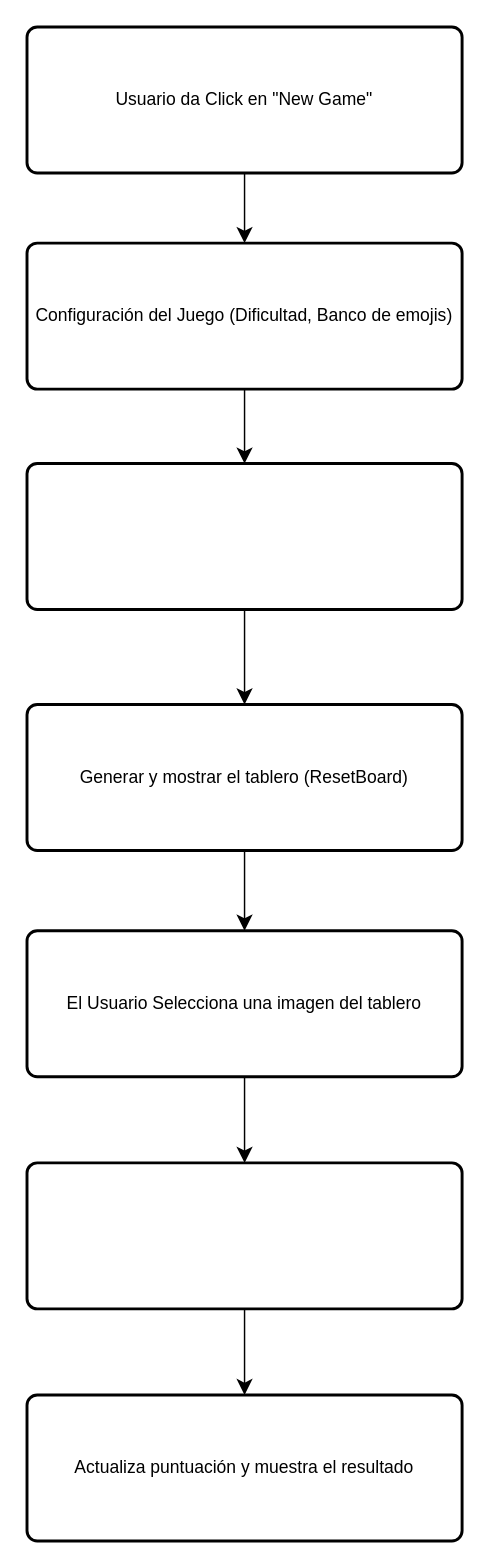
Some shapes in this 488 by 1567 pixel diagram are drawn without their labels. Here are the shapes that lost their labels. From the top down, the centre of each, then its label:
At (x=244, y=535): "Preparar nuevo Juego (PreNewGame)".
At (x=244, y=1235): "Verificar Seleccion (PressedCheck)".
